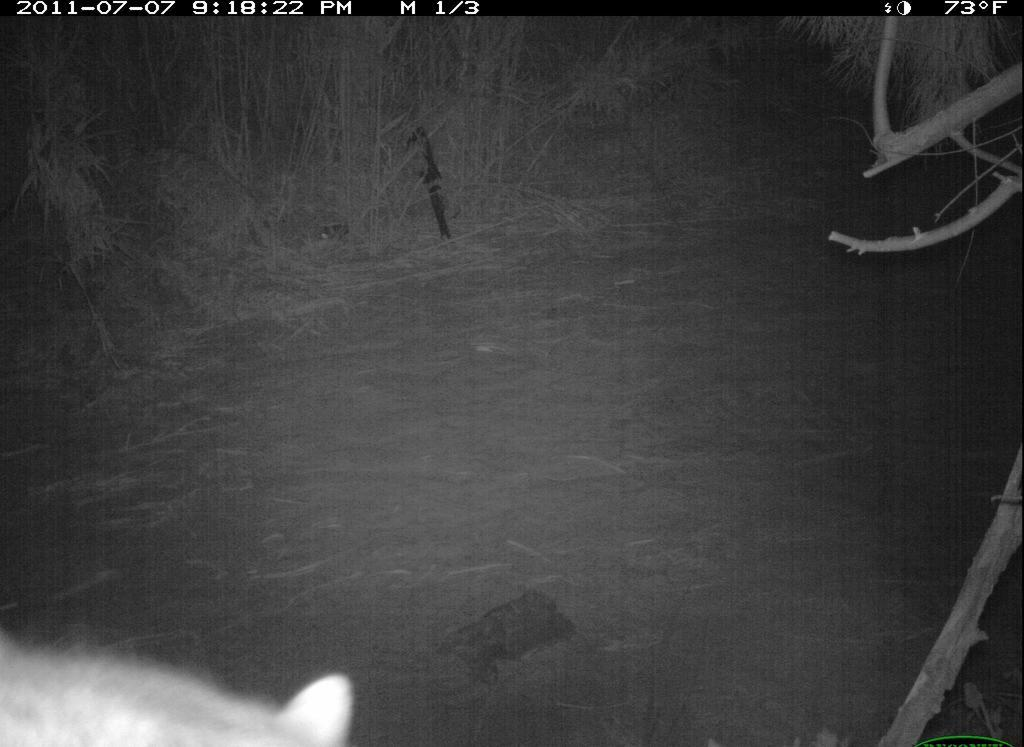raccoon: (1, 609, 377, 747)
